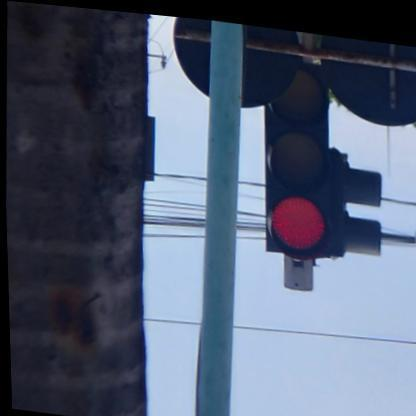red: (258, 56, 334, 254)
